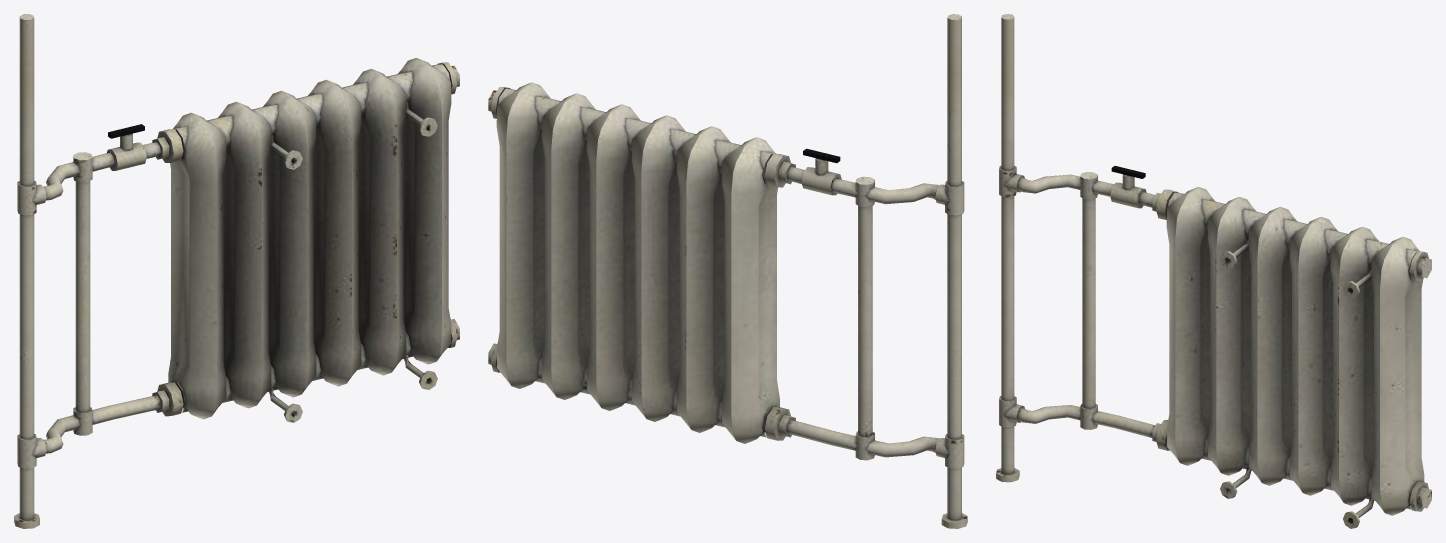
Rendered from rad_6_bypass_right_lod1_web.glb.
The picture shows the model from 3 angles, left to right: view 1: azimuth 30°, elevation 25°; view 2: azimuth 150°, elevation 25°; view 3: azimuth 330°, elevation 25°; orthographic projection. The views are drawn at different scales.
Parts seen in each view (by area): view 1: Rad6BypassRight_Body; view 2: Rad6BypassRight_Body; view 3: Rad6BypassRight_Body.
Boxes of the visible parts, <box> form: Rad6BypassRight_Body: <box>14,14,459,528</box>; Rad6BypassRight_Body: <box>488,14,967,528</box>; Rad6BypassRight_Body: <box>996,14,1431,528</box>.
Bounding box in the file's own units: 0.942 × 1 × 0.175.
Materials: 1 (1 with a texture image).
